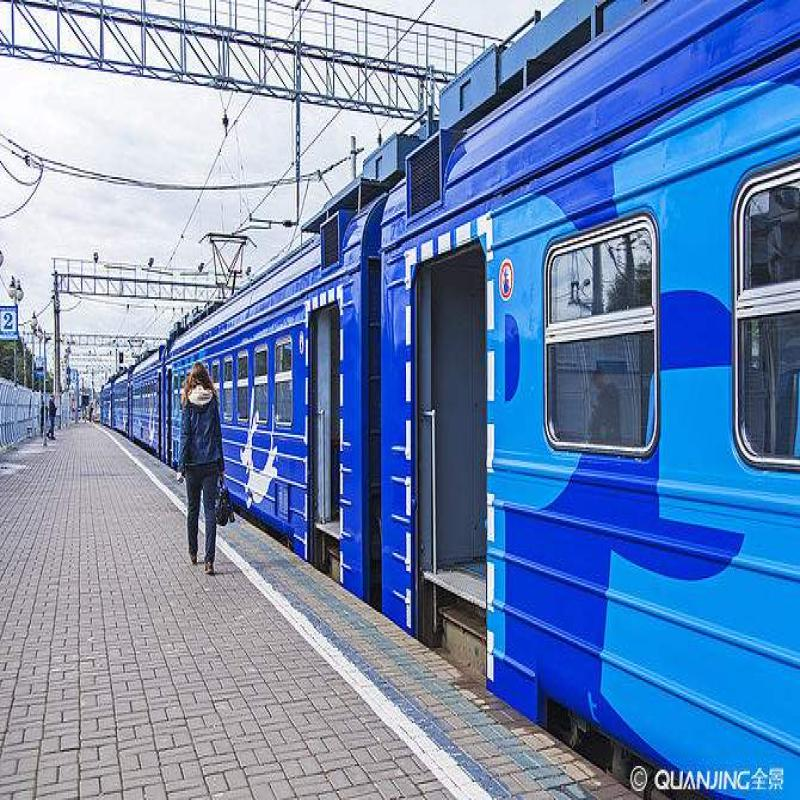train: (327, 67, 752, 746)
